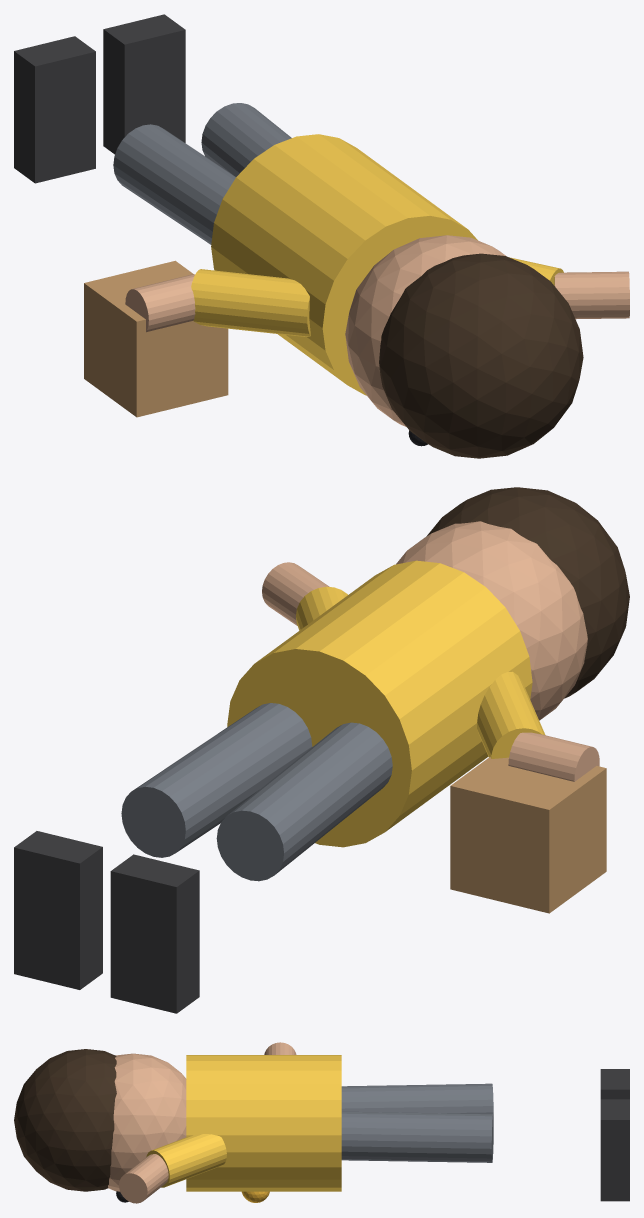
Rendered from Ecommerce_Buddy.glb.
The picture shows the model from 3 angles, top to bottom: view 1: azimuth 30°, elevation 25°; view 2: azimuth 150°, elevation 25°; view 3: azimuth 270°, elevation 25°; orthographic projection. The views are drawn at different scales.
Parts seen in each view (by area): view 1: hair, torso, package, shoe.L, shoe.R, leg.L, head, arm.L, leg.R, forearm.R, forearm.L; view 2: torso, package, leg.L, leg.R, head, shoe.L, shoe.R, hair, arm.L, forearm.L, forearm.R, arm.R; view 3: torso, hair, leg.R, head, leg.L, shoe.R, arm.R, forearm.R, shoe.L, forearm.L, badge.
Part boxes in pixels (<box>): hair: <box>379,253,583,458</box>; torso: <box>211,134,477,395</box>; package: <box>84,260,228,417</box>; shoe.L: <box>14,36,95,183</box>; shoe.R: <box>103,14,185,154</box>; leg.L: <box>113,124,235,244</box>; head: <box>345,235,506,426</box>; arm.L: <box>191,269,310,336</box>; leg.R: <box>201,103,291,176</box>; forearm.R: <box>554,271,629,319</box>; forearm.L: <box>125,274,195,332</box>; torso: <box>227,560,532,847</box>; package: <box>450,757,606,913</box>; leg.L: <box>216,722,392,881</box>; leg.R: <box>121,703,312,857</box>; head: <box>396,521,587,720</box>; shoe.L: <box>110,854,199,1013</box>; shoe.R: <box>14,831,102,989</box>; hair: <box>426,487,629,698</box>; arm.L: <box>477,671,545,758</box>; forearm.L: <box>508,732,599,781</box>; forearm.R: <box>262,562,329,625</box>; arm.R: <box>296,586,347,630</box>; torso: <box>186,1055,341,1191</box>; hair: <box>14,1049,116,1191</box>; leg.R: <box>341,1111,493,1162</box>; head: <box>108,1053,186,1191</box>; leg.L: <box>341,1083,493,1116</box>; shoe.R: <box>600,1099,629,1201</box>; arm.R: <box>146,1134,226,1187</box>; forearm.R: <box>119,1154,168,1203</box>; shoe.L: <box>600,1069,629,1099</box>; forearm.L: <box>264,1042,296,1054</box>; badge: <box>241,1191,269,1202</box>.
Bounding box in the file's own units: 1.99 × 0.99 × 3.77.
